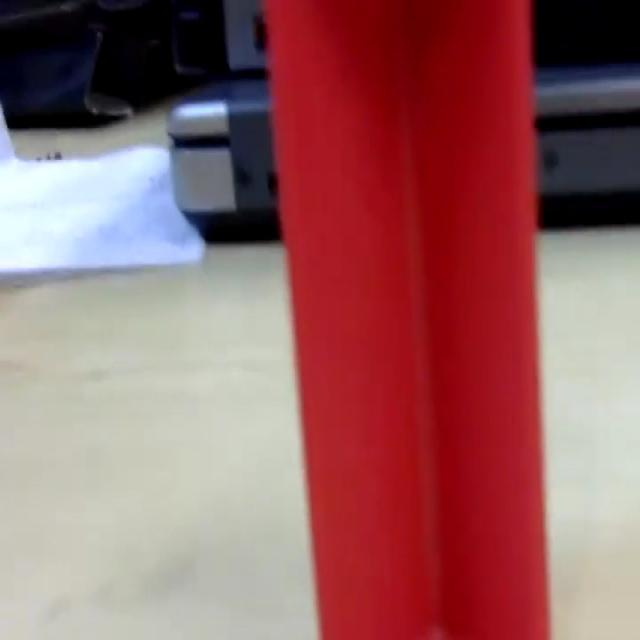red_block: (262, 0, 552, 636)
